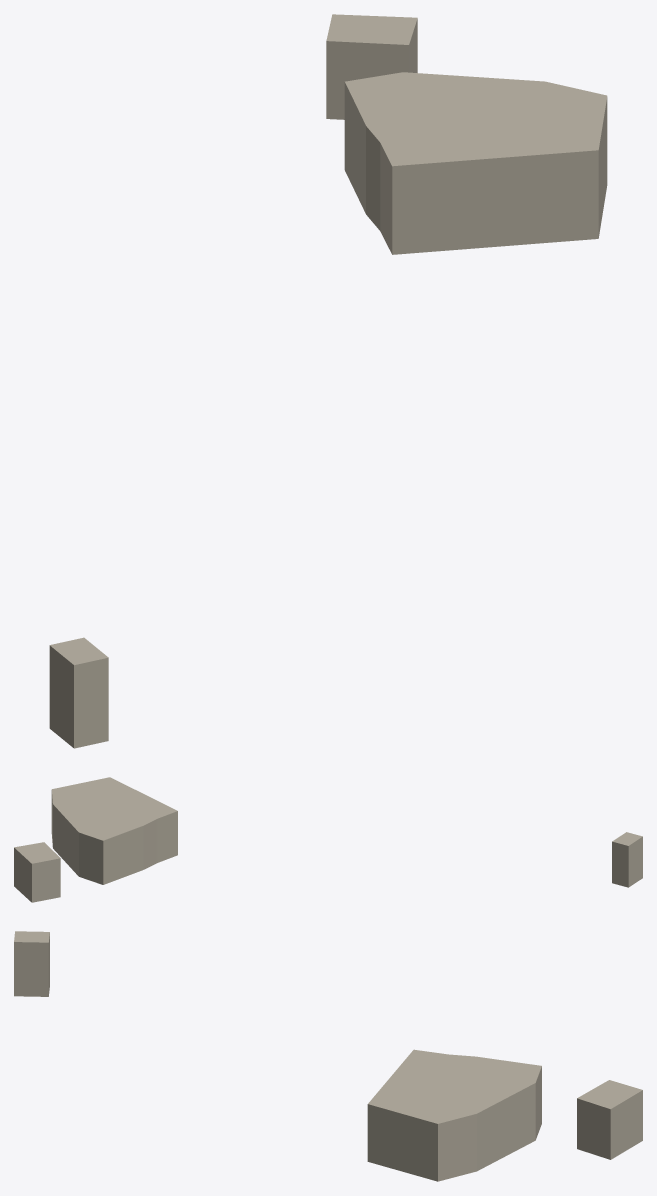
Rendered from kalkara_63_23_collision.glb.
3 renders of one model, top to bottom at view 1: azimuth 30°, elevation 25°; view 2: azimuth 150°, elevation 25°; view 3: azimuth 270°, elevation 25°, orthographic. The views are drawn at different scales.
Visible parts, largest first — view 1: geometry_0; view 2: geometry_0; view 3: geometry_0.
Part boxes in pixels (bbox=[...]): geometry_0: bbox=[49, 14, 607, 748]; geometry_0: bbox=[14, 777, 642, 902]; geometry_0: bbox=[14, 931, 642, 1181].
Size of the model in its own units: 122 by 27.9 by 118.
